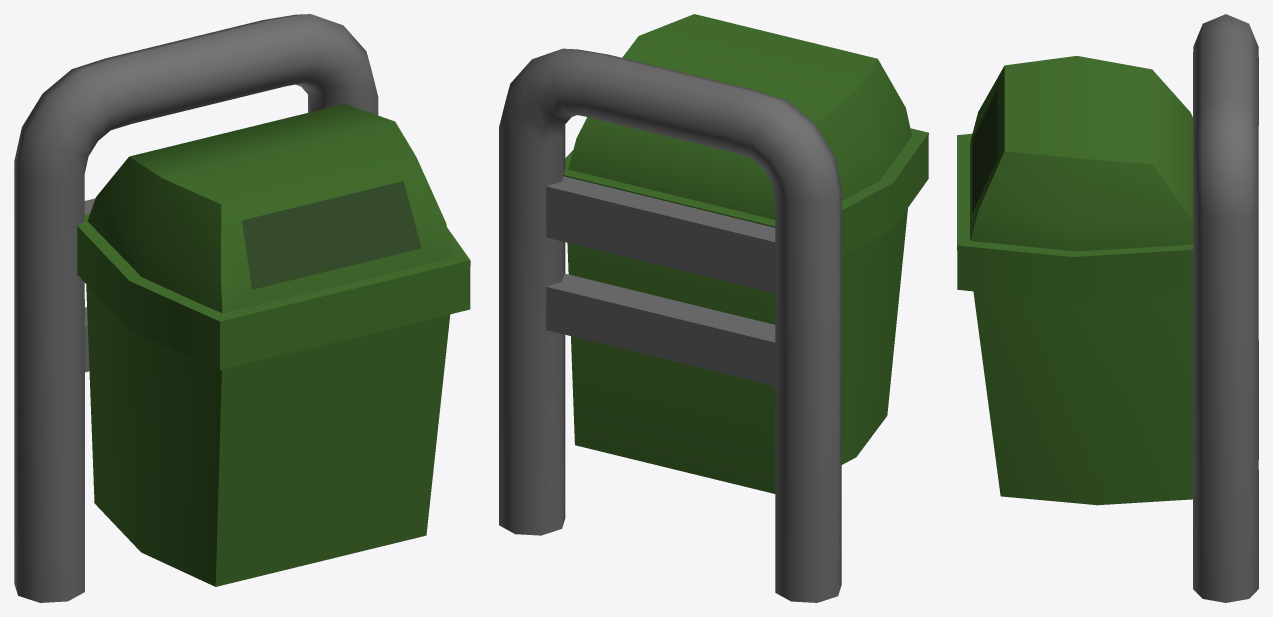
Rendered from trashcan_04.fbx.
The picture shows the model from 3 angles, left to right: view 1: azimuth 30°, elevation 25°; view 2: azimuth 150°, elevation 25°; view 3: azimuth 270°, elevation 25°; orthographic projection. The views are drawn at different scales.
Visible parts, largest first — view 1: trashcan_04; view 2: trashcan_04; view 3: trashcan_04.
Part boxes in pixels (x1,y1,x2,y2): trashcan_04: (14, 14, 470, 602); trashcan_04: (499, 14, 928, 602); trashcan_04: (957, 14, 1258, 602).
Size of the model in its own units: 62.19 by 85.54 by 50.56.
